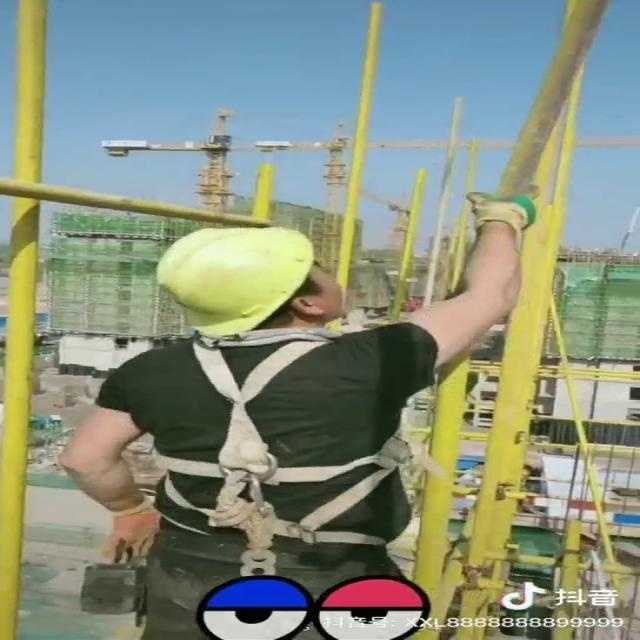Arnes_seguridad: (102, 330, 419, 577)
